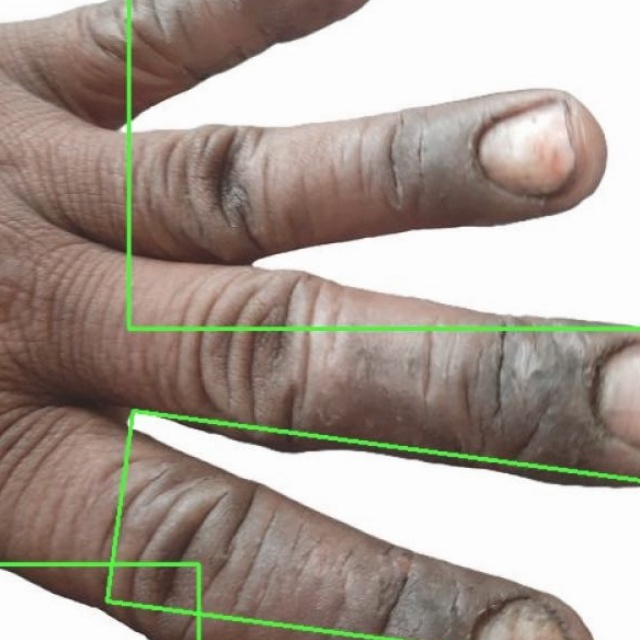Eczema: (129, 0, 639, 328), (105, 411, 639, 639), (0, 564, 198, 639)
